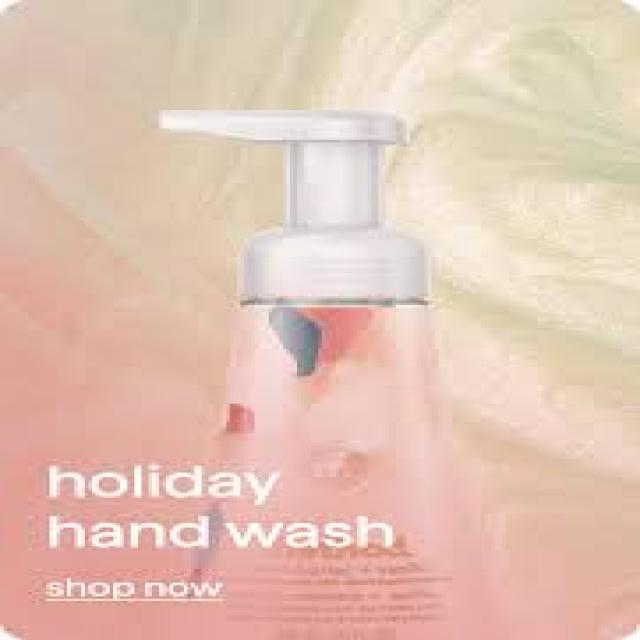liquid soap: (144, 103, 520, 640)
